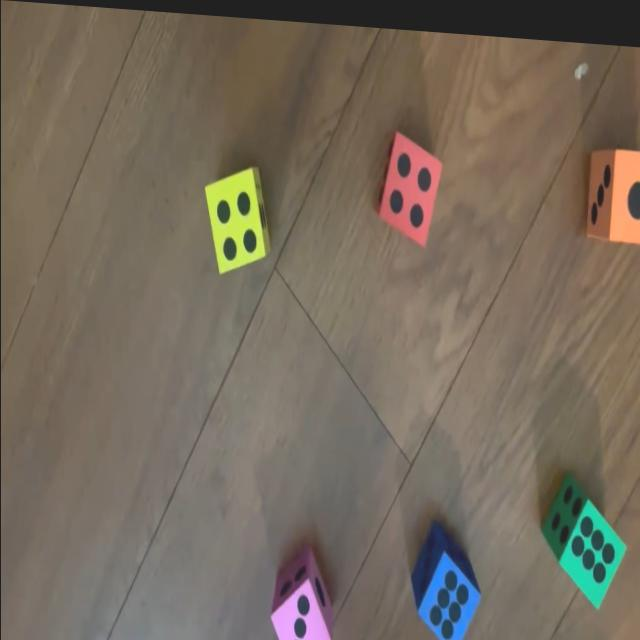cube: (541, 466, 625, 604), (412, 514, 482, 640), (373, 125, 441, 243)
